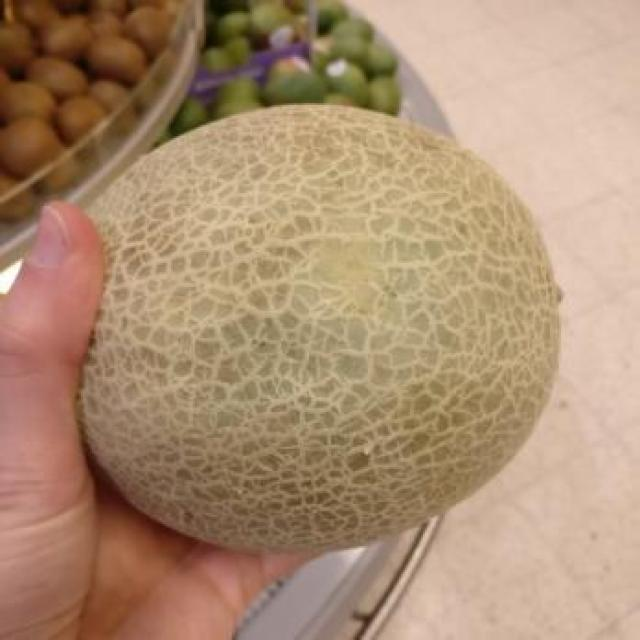Cantaloupe: (83, 106, 561, 552)
